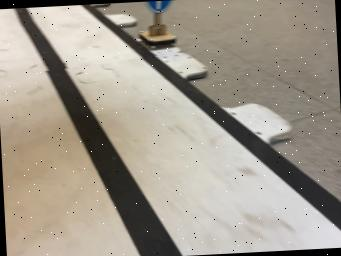forward: (139, 0, 178, 43), (139, 0, 178, 43), (139, 0, 178, 43), (139, 0, 178, 43), (139, 0, 178, 43), (139, 0, 178, 43)
street: (0, 4, 341, 256), (0, 4, 341, 256), (0, 4, 341, 256), (0, 4, 341, 256), (0, 4, 341, 256), (0, 4, 341, 256)
